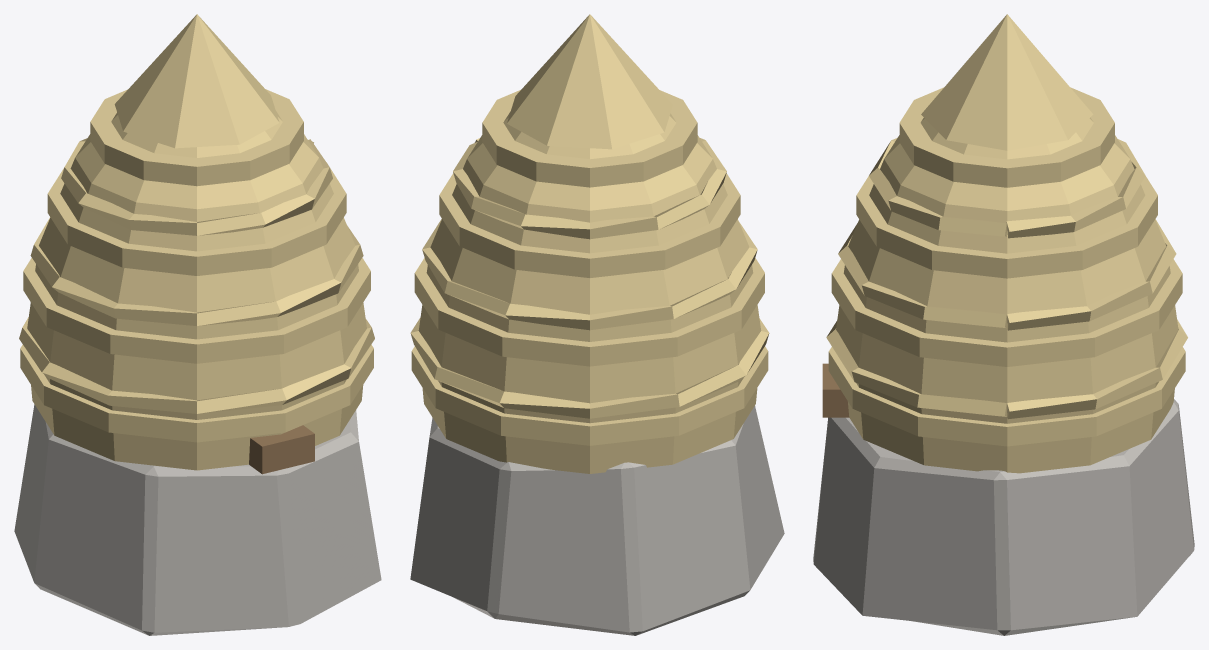
The model's file is bee_skep.glb.
3 renders of one model, left to right at view 1: azimuth 30°, elevation 25°; view 2: azimuth 150°, elevation 25°; view 3: azimuth 270°, elevation 25°, orthographic.
Parts seen in each view (by area): view 1: bee_skep; view 2: bee_skep; view 3: bee_skep.
Boxes of the visible parts, x1,y1,x2,y2 form: bee_skep: [14, 14, 381, 635]; bee_skep: [410, 14, 784, 635]; bee_skep: [813, 14, 1194, 635].
Bounding box in the file's own units: 0.6077 × 0.98 × 0.6195.
